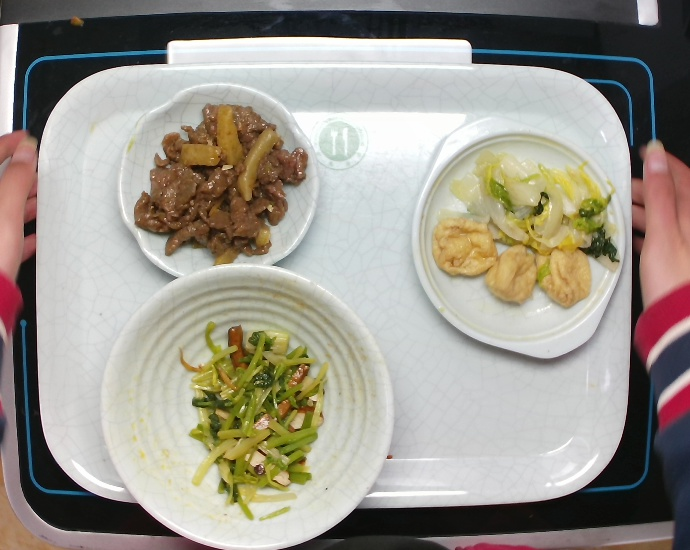JYsf-Ao_Yuan_Wan: (116, 79, 322, 279)
JYsf-Shuang_Er_Pan: (406, 113, 632, 362)
JYsf-Xiao_Tang_Wan: (96, 260, 396, 550)
